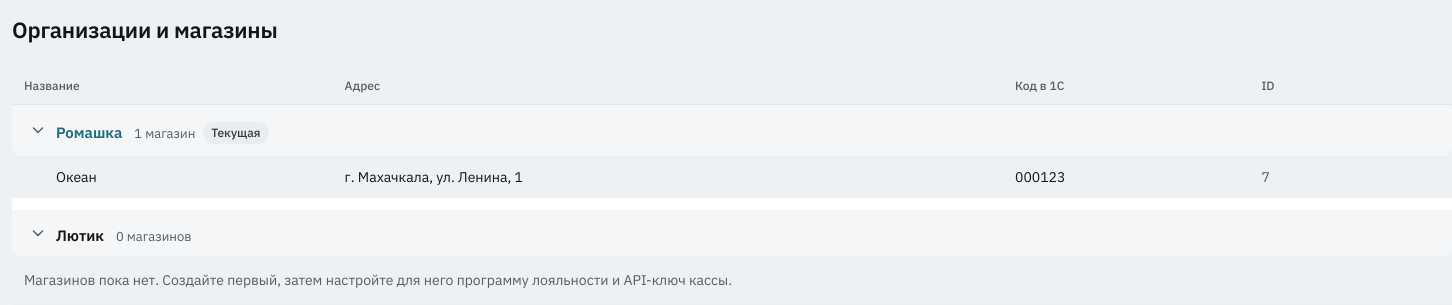
OrganizationsPage › collapses and expands an organization group
This screenshot has width=1452, height=305.
Click the button named "Свернуть «Ромашка»". click: (38, 130)
box: x1=24 y1=116 x2=52 y2=144
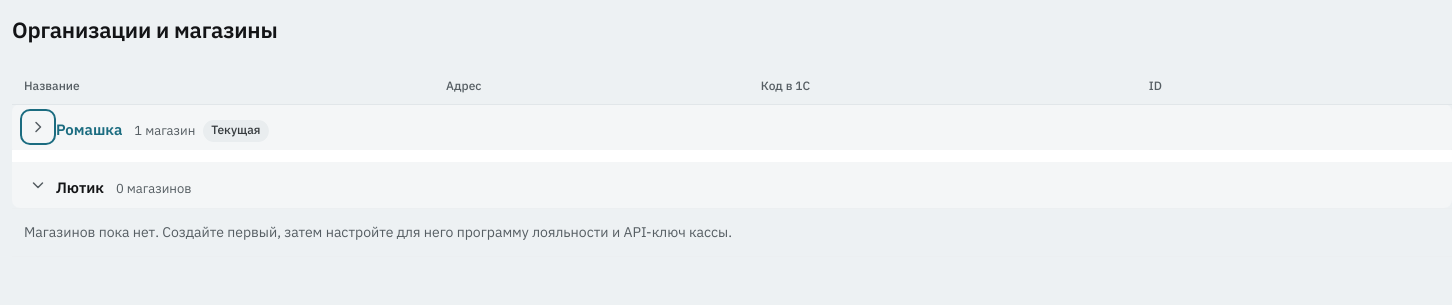
Now the button "Океан" is gone
Click the button named "Развернуть «Ромашка»". click: (38, 127)
box: x1=24 y1=113 x2=52 y2=141
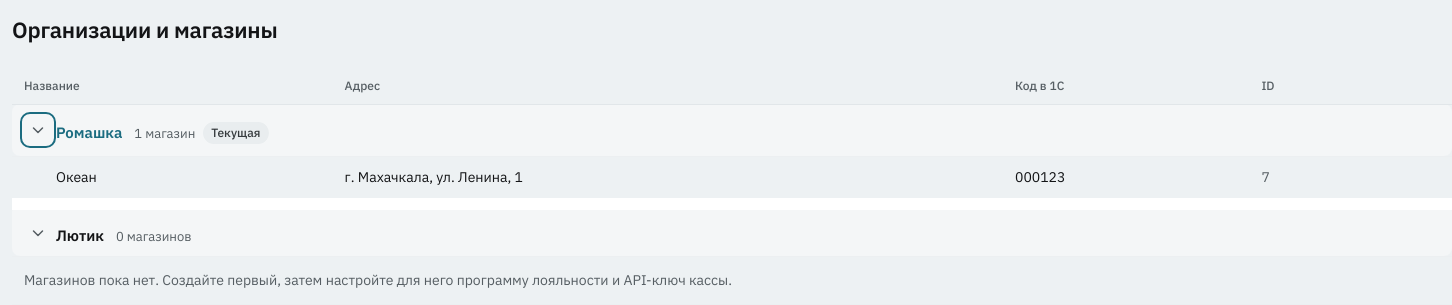
Now the button "Океан" is shown, box x1=56 y1=167 x2=97 y2=188
